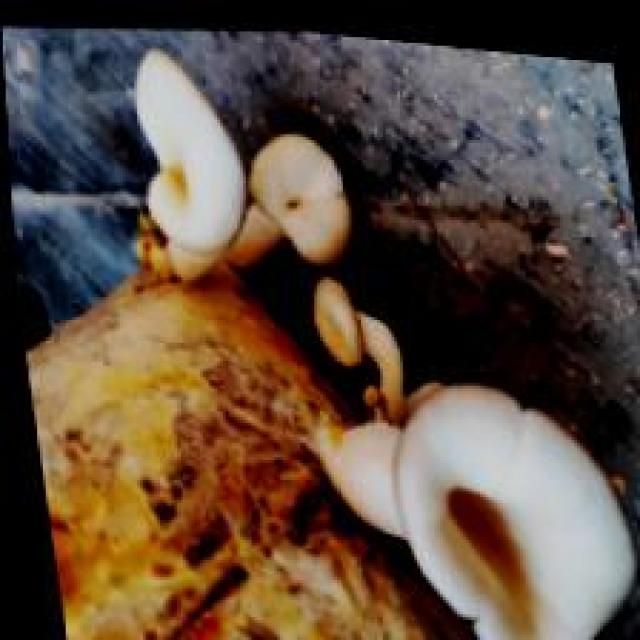chanterelle: (23, 46, 637, 637)
